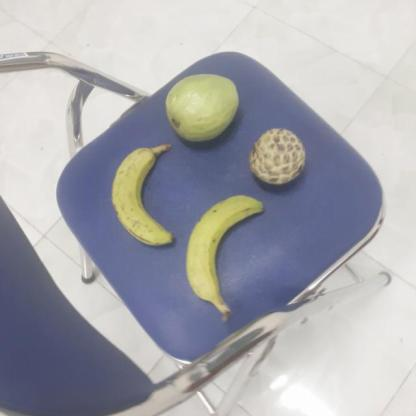annona: (251, 127, 311, 186)
banana: (186, 194, 266, 300), (110, 143, 178, 243)
guava: (165, 75, 243, 143)
